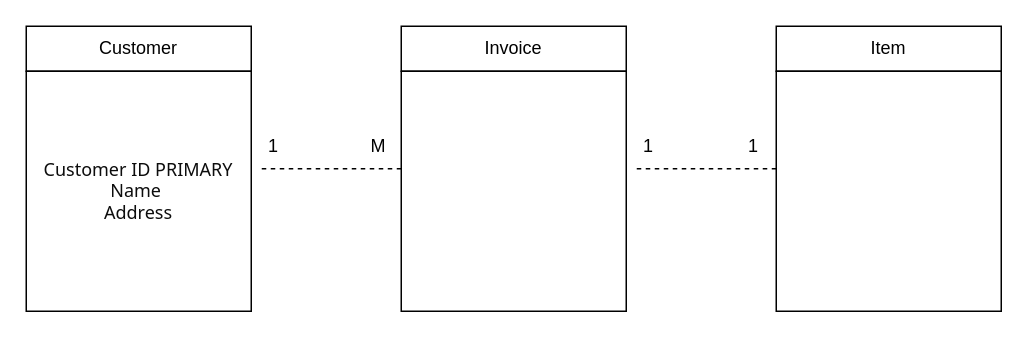
This 1028x338 diagram has some shape labels left out. Here are the shapes that lost their labels. From the top down, the centre of each, then its label:
At pixel 513 190: "Invoice ID PRIMARY Invoice Number Invoice Date Customer ID FOREIGN".
At pixel 888 190: "Item ID PRIMARY Invoice ID FOREIGN Quantity Description Unit Price Total".
